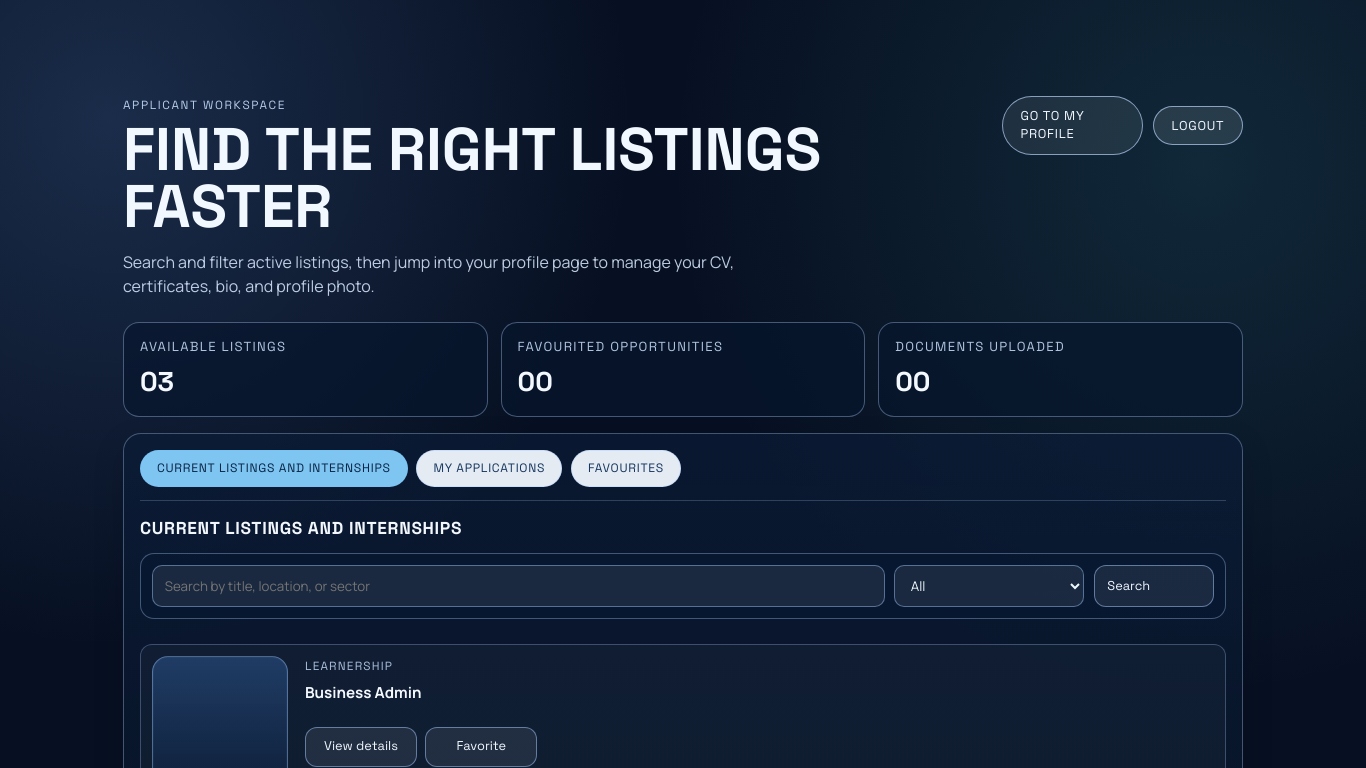
Dashboard acceptance tests › filters and displays listings by type selection
The width and height of the screenshot is (1366, 768).
Select "Internship" in the dropdown named "Filter listing type": (989, 586) [894,565,1084,607]
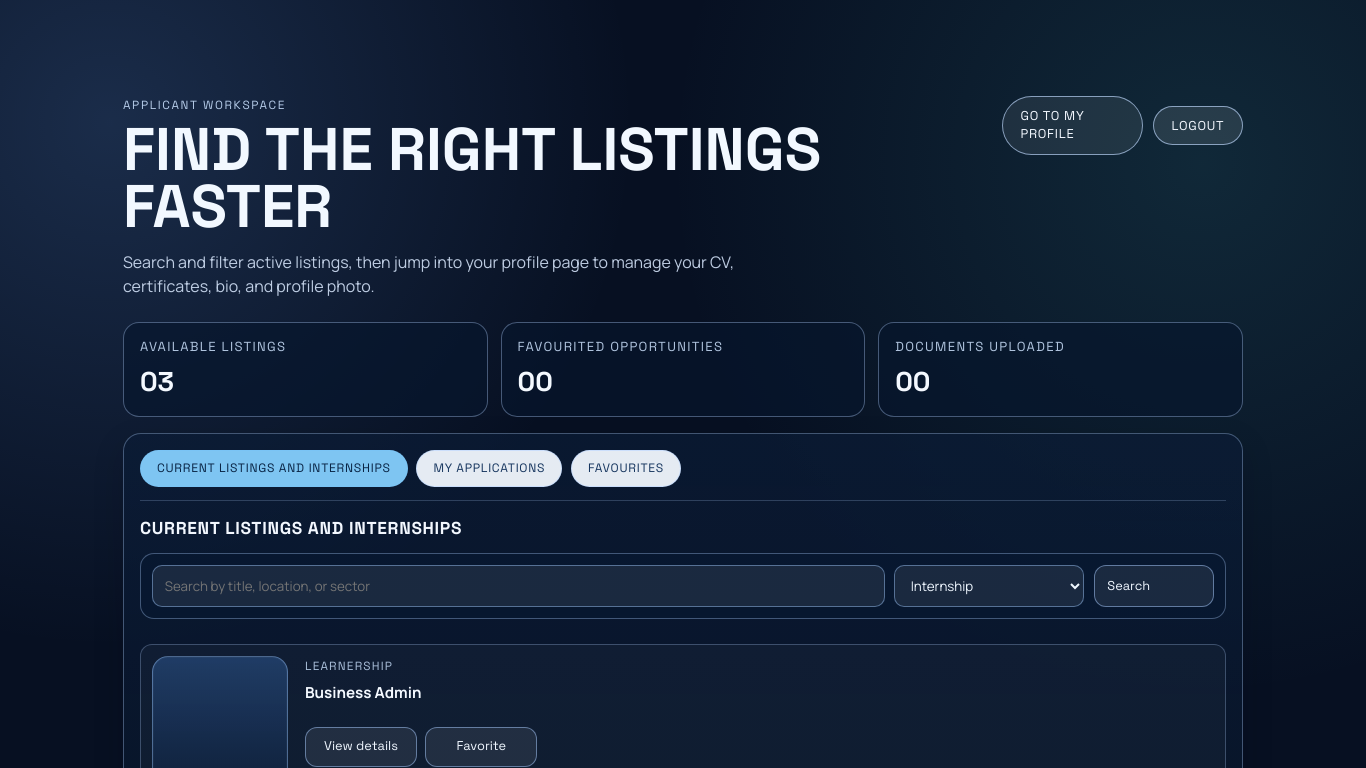
Click the button "Search": (1154, 586) [1094,565,1214,607]
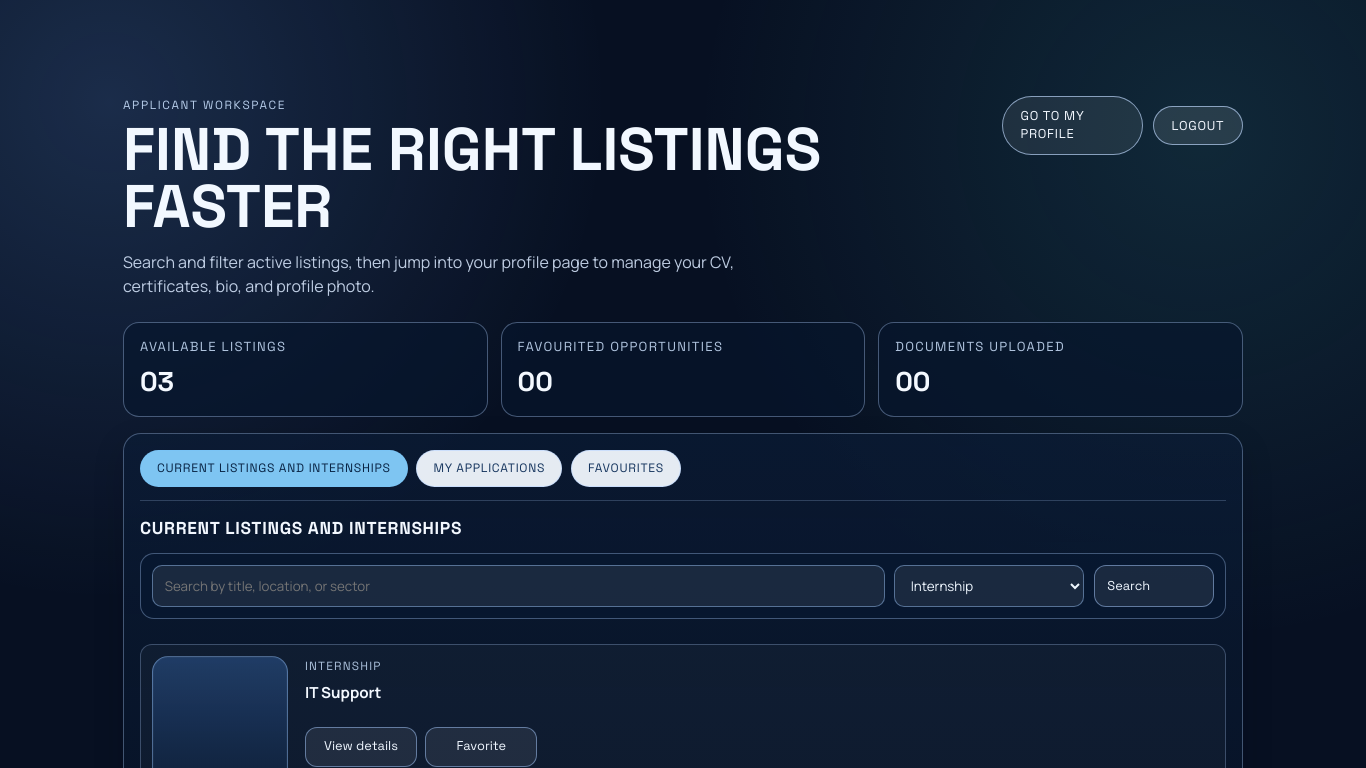
Expected: the text "IT Support" is shown, [305,682,381,703]
Expected: the text "Business Admin" is gone
